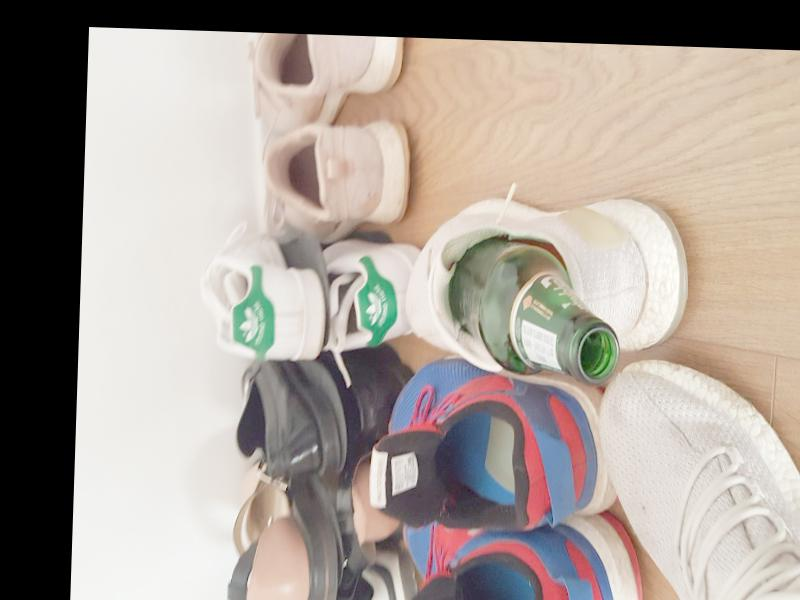Beer: (448, 238, 621, 383)
